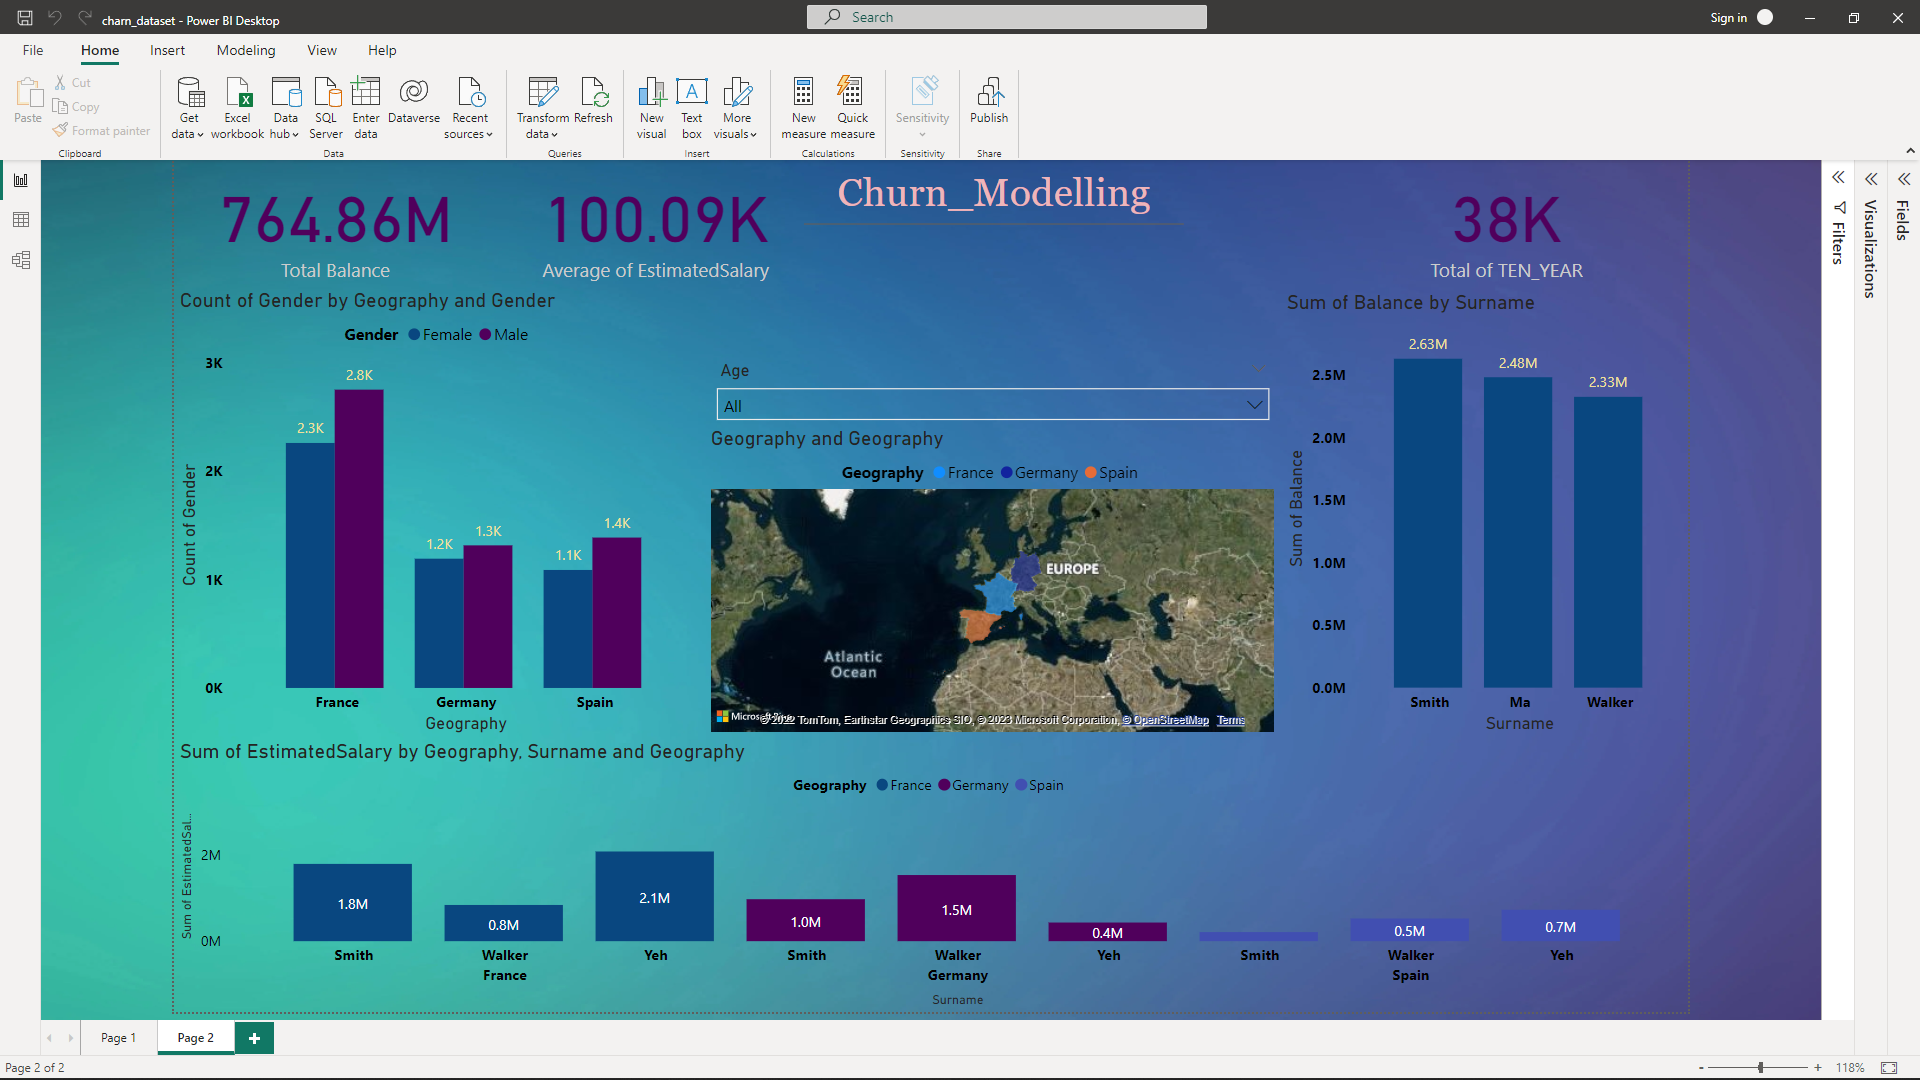

This screenshot's page, from the dashboard's own definition file:
{"tool":"powerbi","page":{"name":"Page 2","canvas":[1280,720],"ordinal":1},"visuals":[{"type":"card","fields":{"Values":["Churn_Modelling.EstimatedSalary"]},"box":[764.2,3.5,257.9,107.8],"z":0},{"type":"card","fields":{"Values":["Churn_Modelling.Balance"]},"box":[506.3,3.5,257.9,106.1],"z":1000},{"type":"card","fields":{"Values":["Churn_Modelling.TEN_YEAR"]},"box":[1022.1,0,257.9,107.8],"z":2000},{"type":"actionButton","title":"Churn_Modelling","box":[15.5,25,320.9,46.6],"z":3000},{"type":"columnChart","fields":{"Category":["Churn_Modelling.Geography","Churn_Modelling.Surname"],"Y":["Churn_Modelling.EstimatedSalary"],"Series":["Churn_Modelling.Geography"]},"box":[0,489.2,1280,230.5],"z":4000},{"type":"clusteredColumnChart","fields":{"Series":["Churn_Modelling.Gender"],"Category":["Churn_Modelling.Geography"],"Y":["Churn_Modelling.Gender"]},"box":[0,108,448.4,381.3],"z":5000},{"type":"clusteredColumnChart","fields":{"Y":["Churn_Modelling.Balance"],"Category":["Churn_Modelling.Surname"]},"box":[935.7,109.9,344.3,379.3],"z":6000},{"type":"slicer","fields":{"Values":["Churn_Modelling.Age"]},"box":[448.5,157.8,487.3,59.5],"z":7000},{"type":"filledMap","fields":{"Category":["Churn_Modelling.Geography"],"Series":["Churn_Modelling.Geography"]},"box":[448.4,224.7,486.3,264.6],"z":8000}]}

Visuals, with their boxes on the page's 1280x720 design canvas (x1, y1, x2, y2). These are canvas units, not pixel positions in the 1920x1080 screenshot, which may show the page scaled, cropped or inside an application window:
card - Churn_Modelling.EstimatedSalary: {"x1": 764, "y1": 4, "x2": 1022, "y2": 111}
card - Churn_Modelling.Balance: {"x1": 506, "y1": 4, "x2": 764, "y2": 110}
card - Churn_Modelling.TEN_YEAR: {"x1": 1022, "y1": 0, "x2": 1280, "y2": 108}
"Churn_Modelling" actionButton: {"x1": 16, "y1": 25, "x2": 336, "y2": 72}
columnChart - Churn_Modelling.Geography x Churn_Modelling.Surname: {"x1": 0, "y1": 489, "x2": 1280, "y2": 720}
clusteredColumnChart - Churn_Modelling.Gender x Churn_Modelling.Geography: {"x1": 0, "y1": 108, "x2": 448, "y2": 489}
clusteredColumnChart - Churn_Modelling.Balance x Churn_Modelling.Surname: {"x1": 936, "y1": 110, "x2": 1280, "y2": 489}
slicer - Churn_Modelling.Age: {"x1": 448, "y1": 158, "x2": 936, "y2": 217}
filledMap - Churn_Modelling.Geography x Churn_Modelling.Geography: {"x1": 448, "y1": 225, "x2": 935, "y2": 489}
